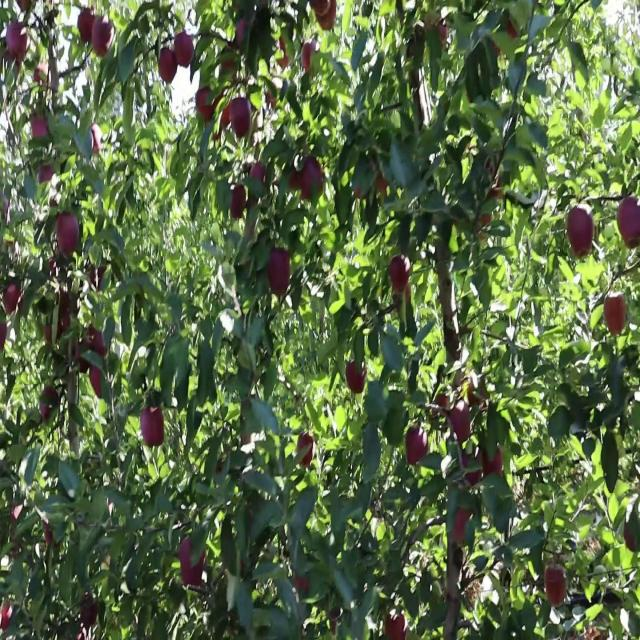apple: (76, 327, 107, 377), (568, 206, 596, 256), (180, 540, 207, 590), (268, 248, 292, 299), (300, 156, 325, 204), (140, 405, 165, 448), (56, 213, 80, 256), (492, 21, 519, 59), (420, 14, 450, 48), (92, 14, 114, 59), (544, 568, 568, 608), (460, 447, 483, 487), (604, 298, 628, 336), (620, 199, 640, 244), (480, 191, 504, 228), (388, 255, 411, 293), (176, 28, 196, 71), (312, 0, 337, 34), (408, 426, 428, 468), (452, 405, 472, 446), (232, 99, 252, 140), (196, 85, 216, 123), (44, 319, 71, 347), (468, 376, 489, 411), (296, 433, 316, 469), (8, 21, 29, 55), (452, 511, 472, 546), (348, 362, 368, 396), (160, 49, 178, 85), (80, 597, 100, 629), (76, 335, 91, 377), (484, 447, 504, 478), (248, 163, 268, 194), (232, 184, 249, 220), (80, 7, 96, 44), (236, 21, 254, 52), (220, 56, 239, 85), (388, 611, 408, 638), (276, 35, 291, 71), (4, 284, 21, 315), (32, 113, 50, 142), (40, 391, 57, 421), (40, 391, 56, 421), (304, 42, 317, 76), (92, 263, 107, 290), (288, 170, 303, 194), (40, 163, 56, 185), (624, 526, 636, 555), (220, 99, 231, 130), (92, 369, 103, 398), (44, 519, 55, 548), (36, 63, 50, 85), (376, 177, 389, 199), (12, 504, 24, 526), (92, 127, 101, 156), (296, 575, 311, 592), (508, 21, 519, 43), (4, 604, 12, 633), (436, 398, 452, 412), (48, 255, 57, 277), (0, 327, 8, 350), (4, 49, 16, 64), (61, 291, 70, 311), (332, 611, 340, 633)
